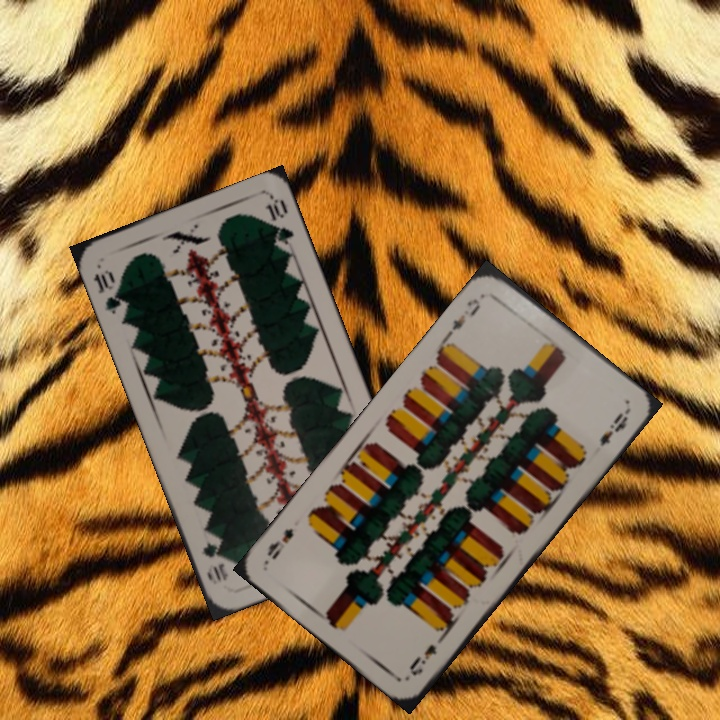E9: (405, 631, 447, 678), (443, 294, 484, 339)
G10: (89, 266, 130, 317)
